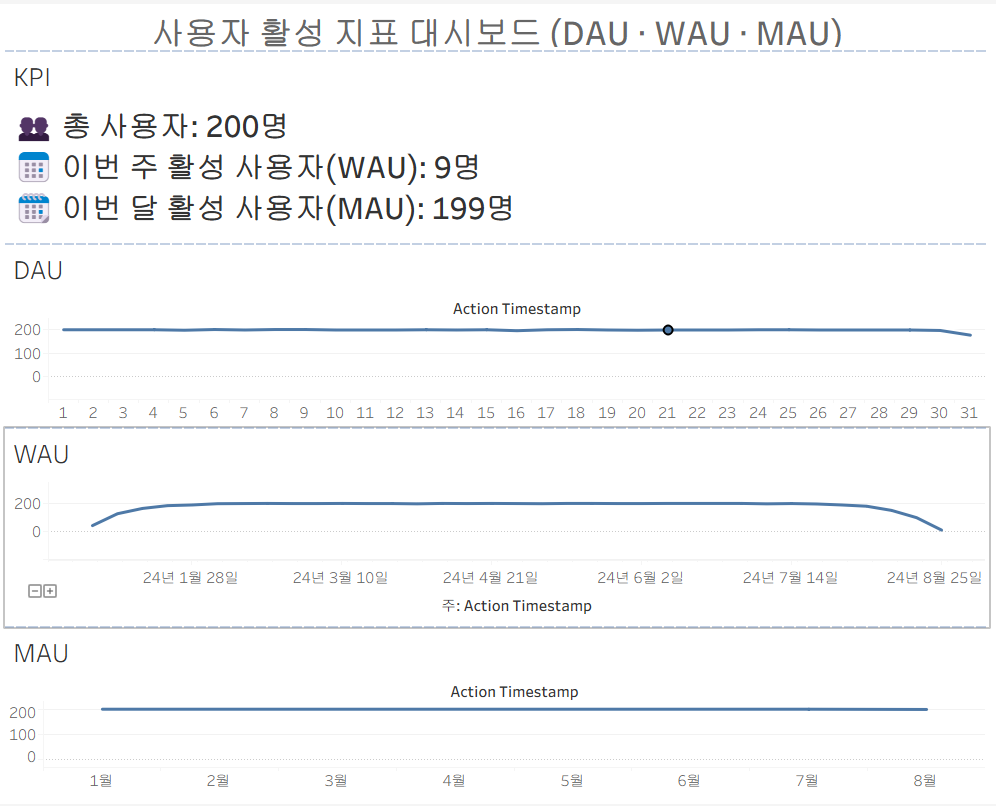

This screenshot's page, from the dashboard's own definition file:
{"tool":"tableau","page":{"name":"대시보드 1","canvas":[1000,800],"ordinal":0},"visuals":[{"type":"text","box":[8,8,984,39]},{"type":"worksheet","title":"KPI","mark":"Automatic","box":[8,47,984,193]},{"type":"worksheet","title":"DAU","mark":"Line","rows":["user_id"],"cols":["action_timestamp"],"box":[8,240,984,184]},{"type":"worksheet","title":"WAU","mark":"Line","rows":["user_id"],"cols":["action_timestamp"],"box":[8,424,984,199]},{"type":"worksheet","title":"MAU","mark":"Line","rows":["user_id"],"cols":["action_timestamp"],"box":[8,623,984,169]}]}

Visuals, with their boxes in screenshot pixels (x1, y1, x2, y2), scaled from the page's 1000x800 canvas onto the 996x806 screenshot:
text: crop(8, 8, 988, 47)
"KPI" worksheet: crop(8, 47, 988, 242)
"DAU" worksheet (Line marks): crop(8, 242, 988, 427)
"WAU" worksheet (Line marks): crop(8, 427, 988, 628)
"MAU" worksheet (Line marks): crop(8, 628, 988, 798)
